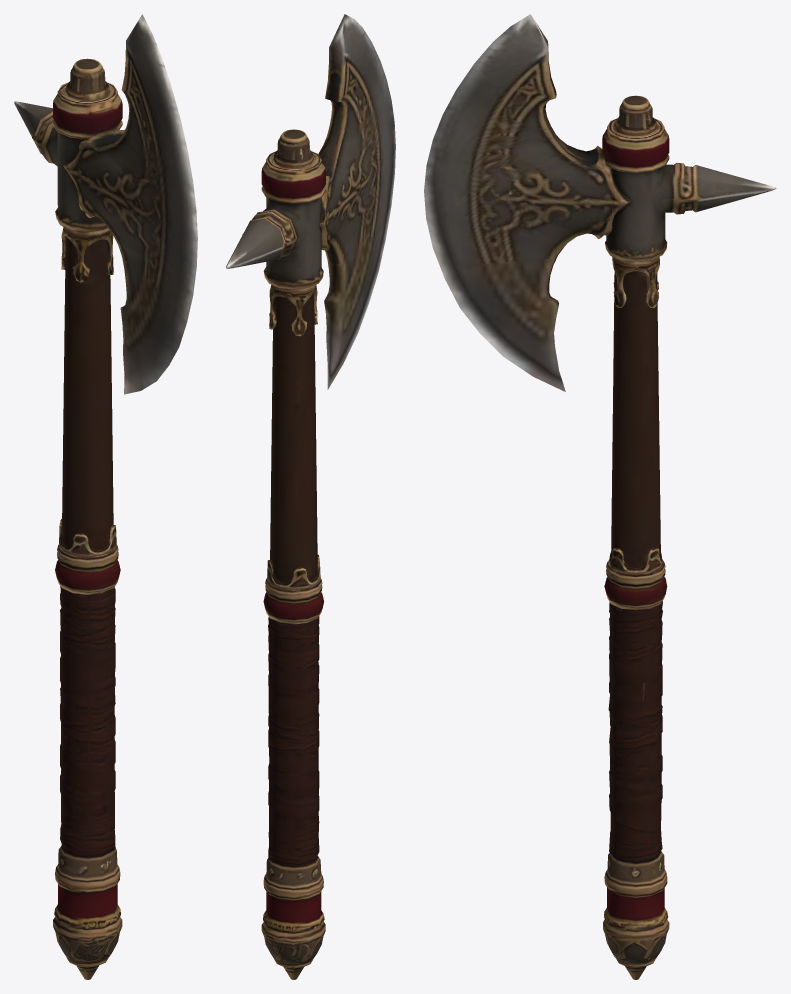
File: axe.glb
The picture shows the model from 3 angles, left to right: view 1: azimuth 30°, elevation 25°; view 2: azimuth 150°, elevation 25°; view 3: azimuth 270°, elevation 25°; orthographic projection. The views are drawn at different scales.
Parts seen in each view (by area): view 1: tripo_node_ce3b0eb9-9bab-4608-a8a0-c6d9779a97f8; view 2: tripo_node_ce3b0eb9-9bab-4608-a8a0-c6d9779a97f8; view 3: tripo_node_ce3b0eb9-9bab-4608-a8a0-c6d9779a97f8.
Part boxes in pixels (x1,y1,x2,y2): tripo_node_ce3b0eb9-9bab-4608-a8a0-c6d9779a97f8: (14, 14, 197, 979); tripo_node_ce3b0eb9-9bab-4608-a8a0-c6d9779a97f8: (226, 14, 395, 979); tripo_node_ce3b0eb9-9bab-4608-a8a0-c6d9779a97f8: (424, 14, 776, 979).
Size of the model in its own units: 0.063 by 0.9995 by 0.3315.
Materials: 1 (1 with a texture image).
